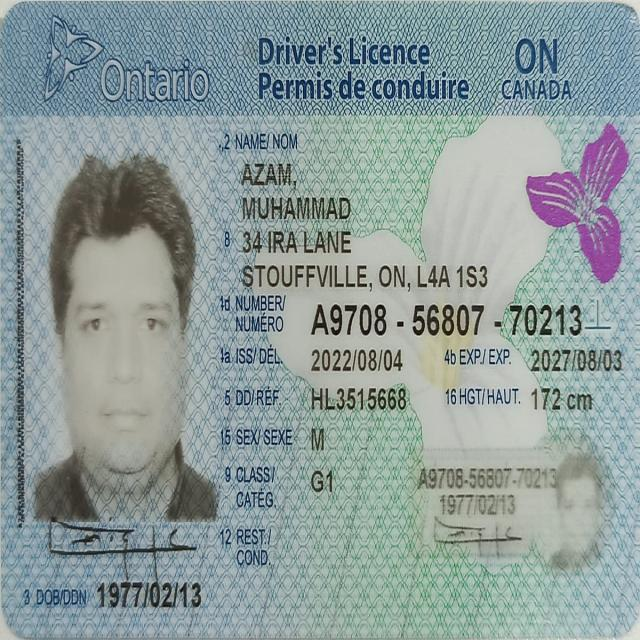Adidas: (4, 0, 639, 638), (10, 115, 219, 526), (8, 125, 29, 527)
